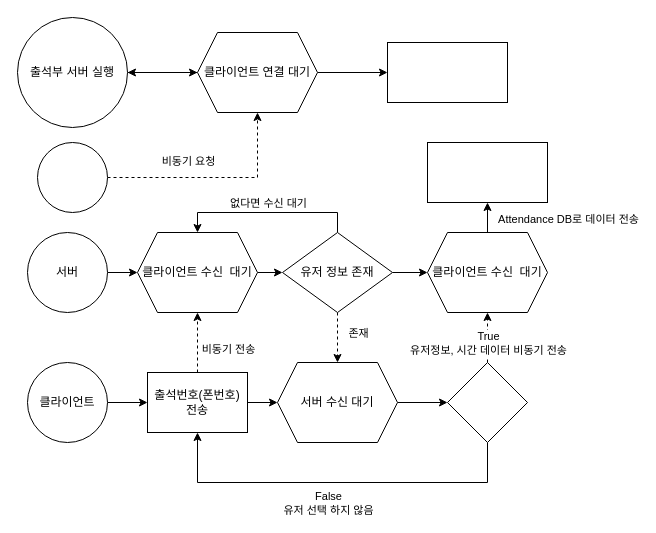
This 656x533 diagram has some shape labels left out. The shapes that lost their labels are listed below. From the top down, each one's centre as x and y in pixels, then its label:
At point 447,72: "연결 완료".
At point 72,177: "클라이언트 연결 요청".
At point 487,172: "Attendance DB 데이터 수신".
At point 487,402: "유저 선택".
